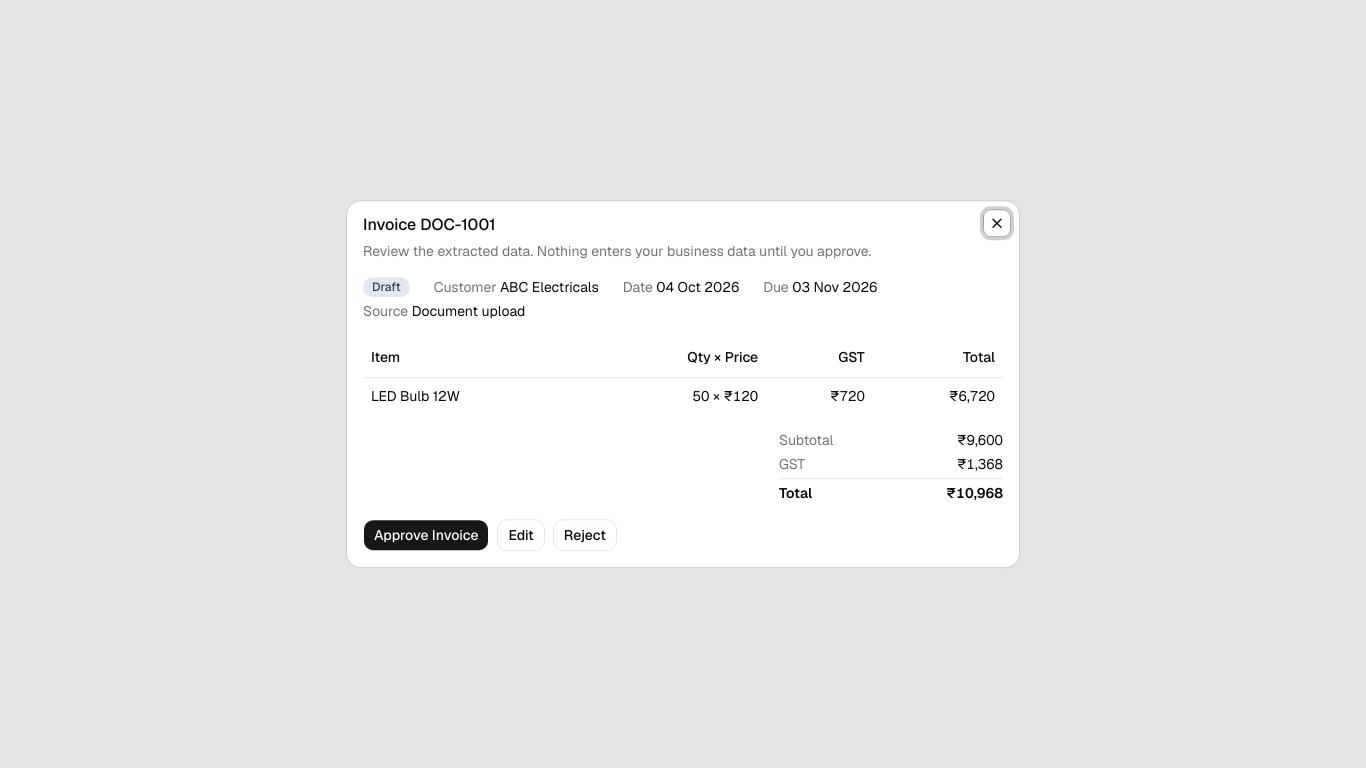
Scenario: Invoice approval flow › shows the server's message when approval is not permitted
What coordinates should you click on to do the following:
click the button "Approve Invoice"
I would click on:
 (426, 535)
Its box is [363, 519, 490, 551].
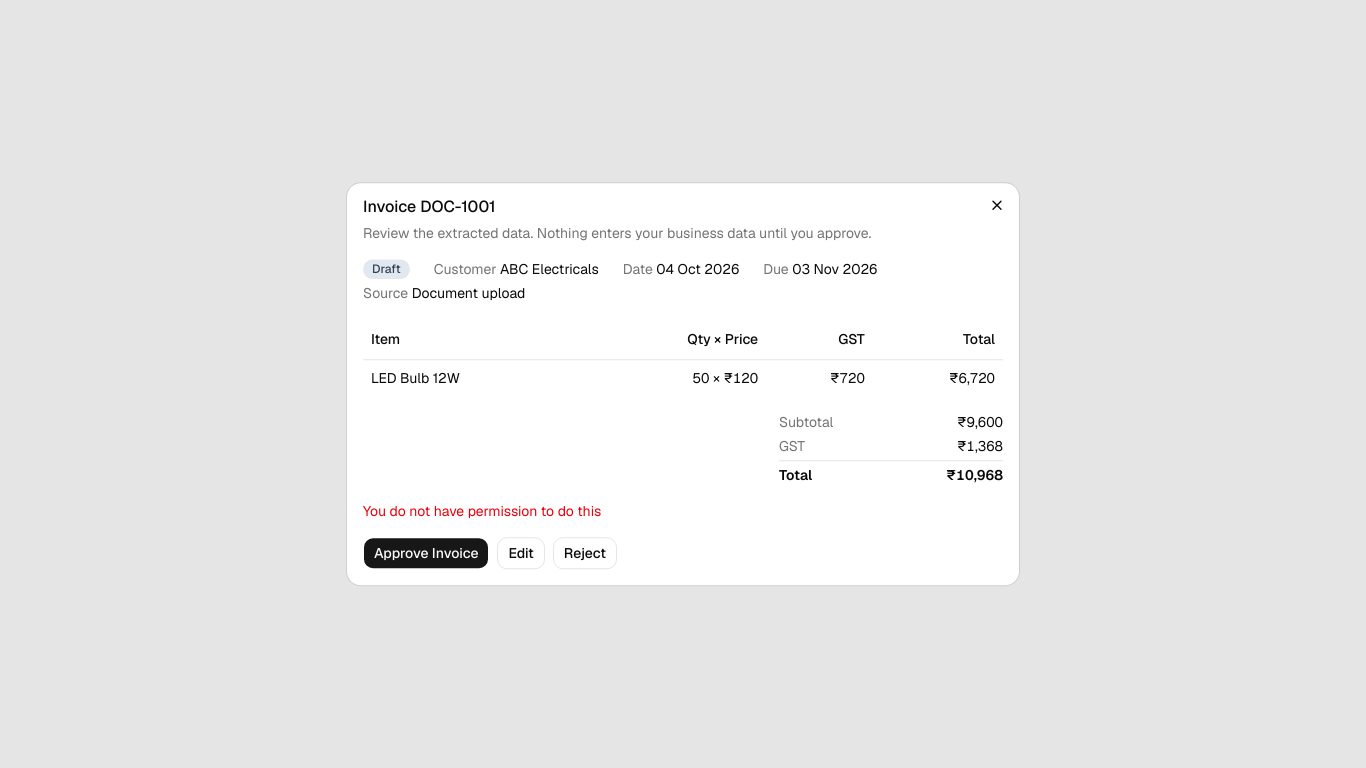
expect the message shows "do not have permission": met, box [363, 502, 601, 520]
